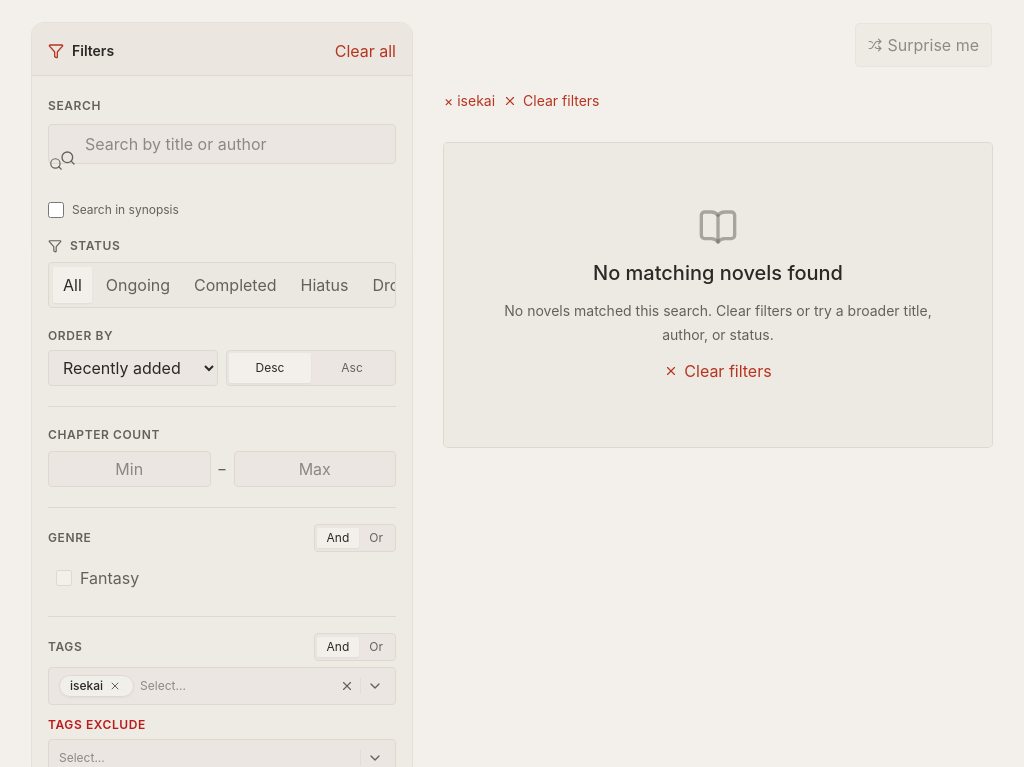
Test: BrowsePage tag filter UI › already-selected tags are hidden from dropdown results
Type "is" into the 1st field with placeholder "Select..." at (234, 686), box x1=140 y1=676 x2=328 y2=696
Wait 360 ms
(page scrolled)
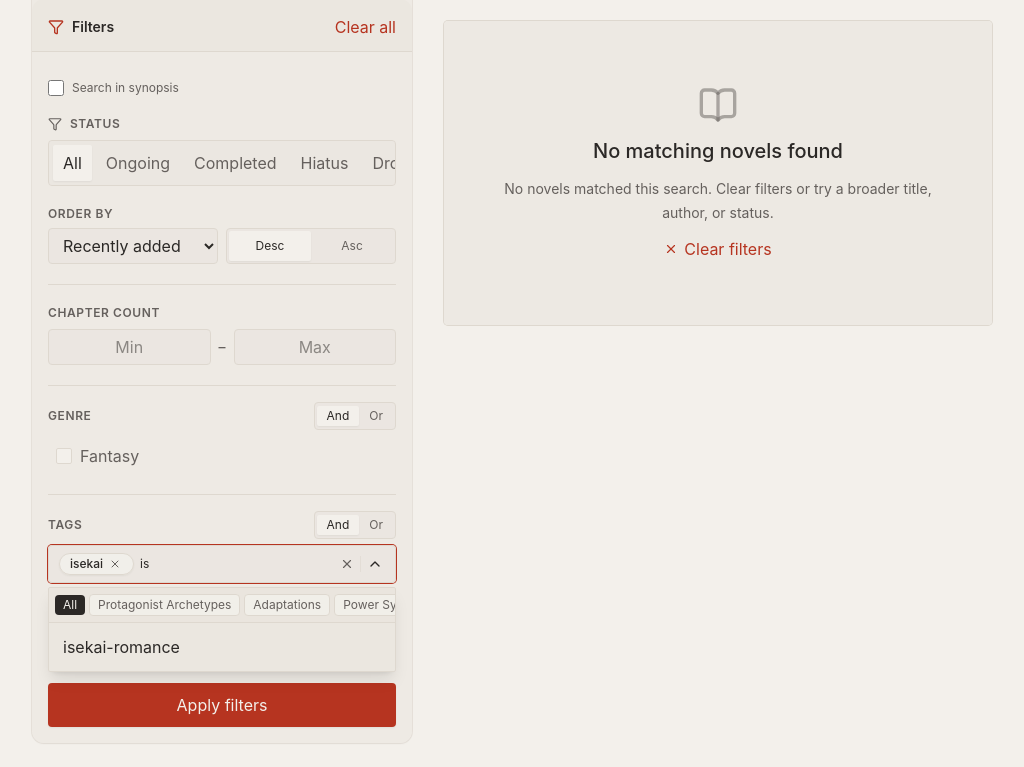
Now the text "isekai-romance" is shown, box x1=63 y1=635 x2=180 y2=659
Now the text "isekai" is shown once, box x1=70 y1=556 x2=103 y2=572
